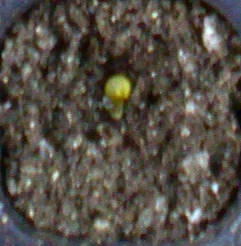pepper seed: (37, 23, 169, 123)
